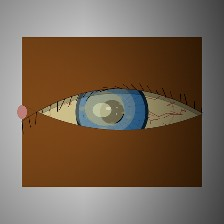corneal_ulcer: (73, 83, 137, 134)
